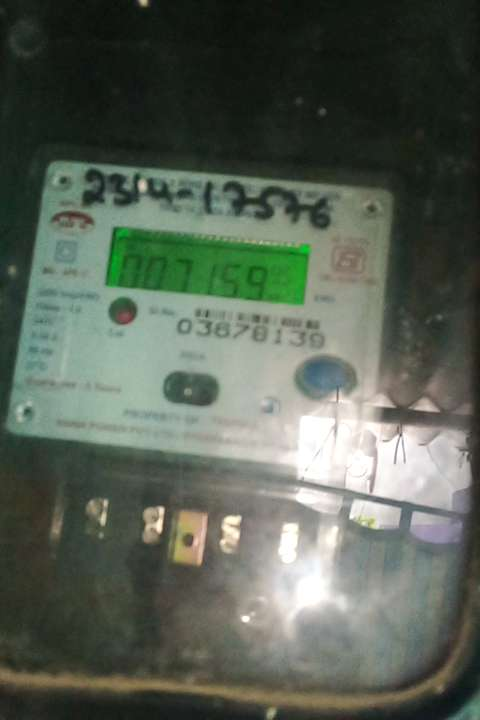meter_serial_number: (173, 317, 331, 352)
